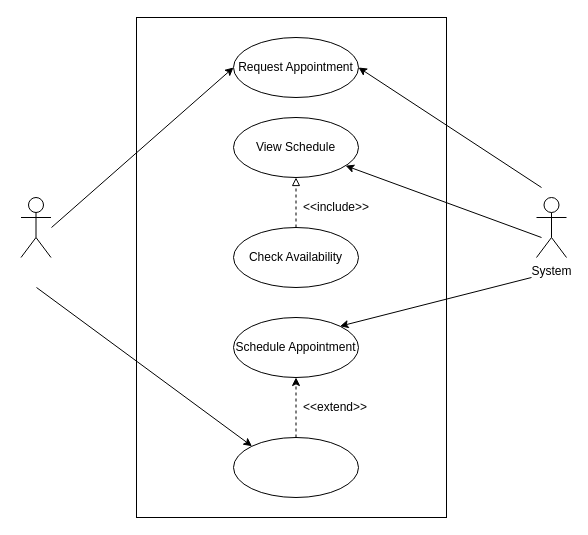
The diagram is 588 pixels wide and 535 high, and some of its shapes have lost their labels. The centre of each missing label's shape, as x and y in pixels:
Alert Notification: pixel 295 467
Patient: pixel 35 227
